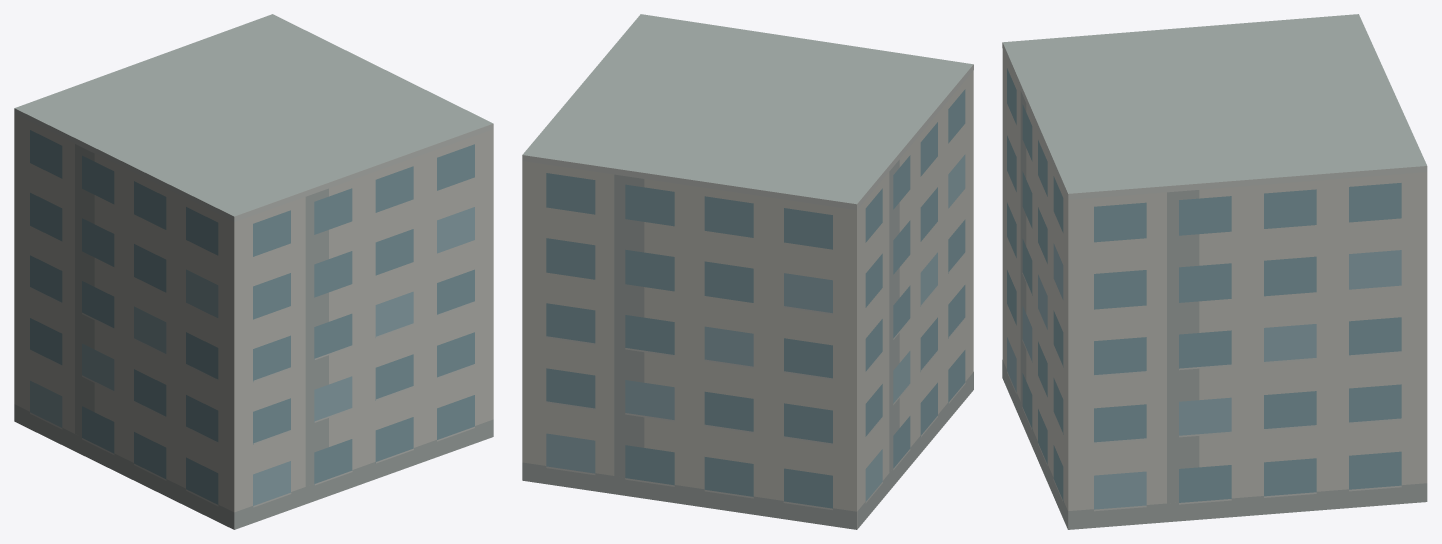
The model's file is survey-upis-32979344.glb.
3 renders of one model, left to right at view 1: azimuth 30°, elevation 25°; view 2: azimuth 150°, elevation 25°; view 3: azimuth 270°, elevation 25°, orthographic. The views are drawn at different scales.
Visible parts, largest first — view 1: survey-upis-32979344.tmp; view 2: survey-upis-32979344.tmp; view 3: survey-upis-32979344.tmp.
Part boxes in pixels (<box>): survey-upis-32979344.tmp: <box>14,14,493,529</box>; survey-upis-32979344.tmp: <box>522,14,973,529</box>; survey-upis-32979344.tmp: <box>1002,14,1427,529</box>.
Bounding box in the file's own units: 15.16 × 13.2 × 15.13.
